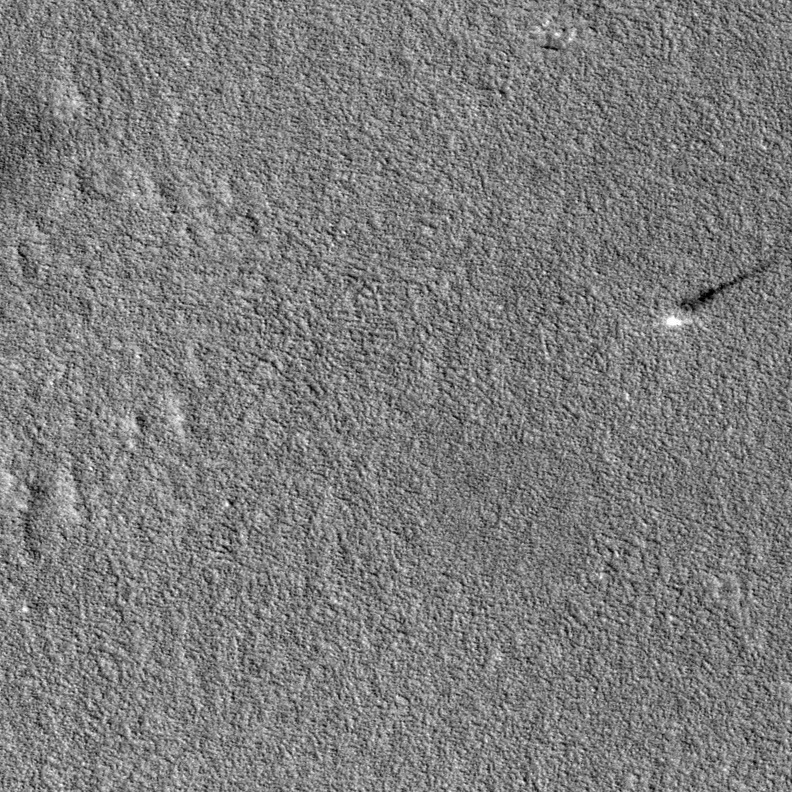dust_devil: (663, 254, 781, 330)
